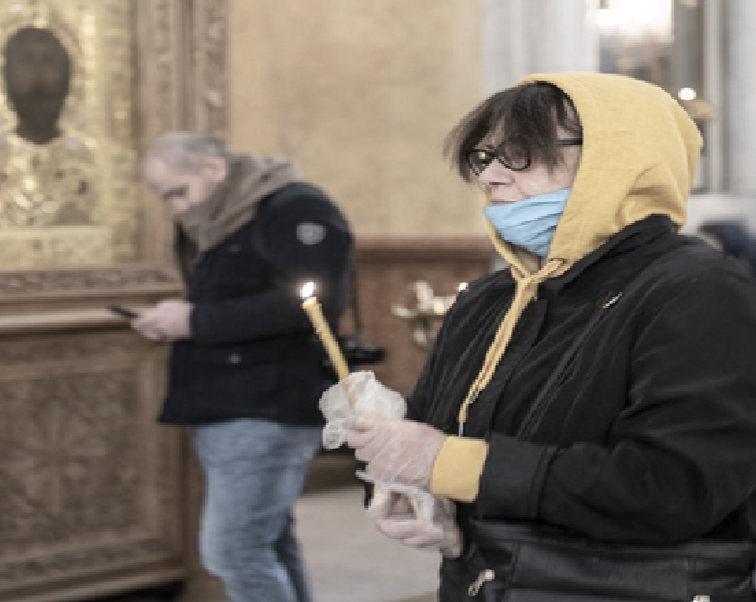mask_weared_incorrect: (461, 72, 694, 257)
